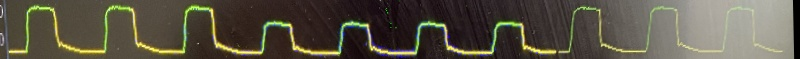normal_pressure: (0, 5, 787, 59)
